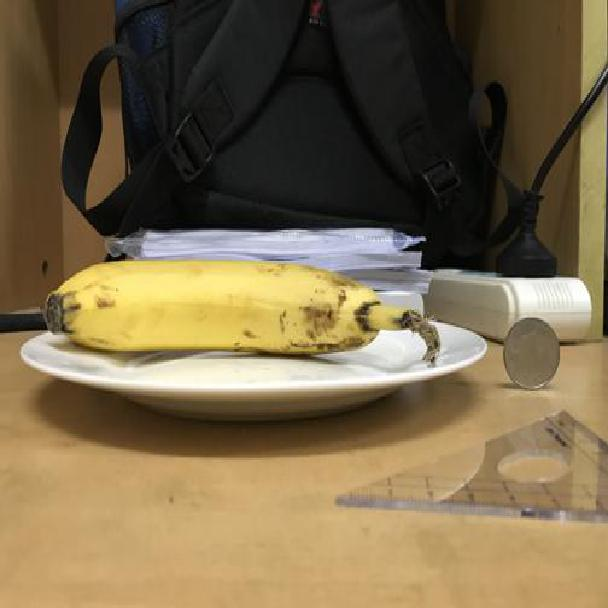banana: (38, 258, 444, 364)
